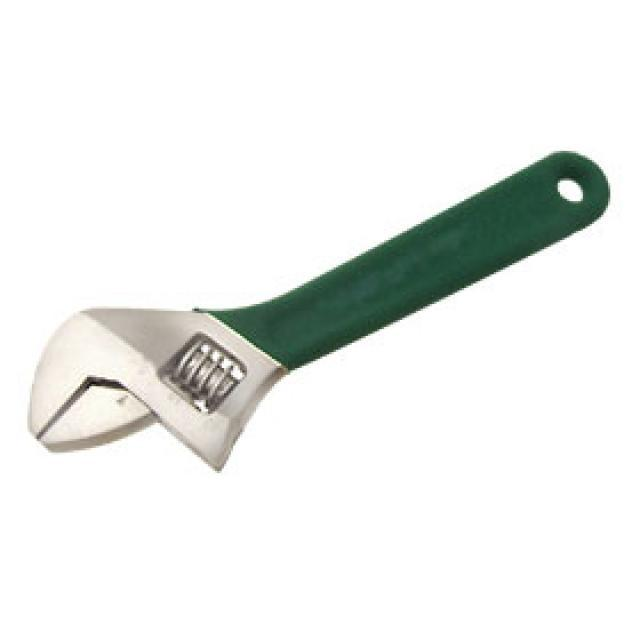wrench: (18, 142, 614, 476)
